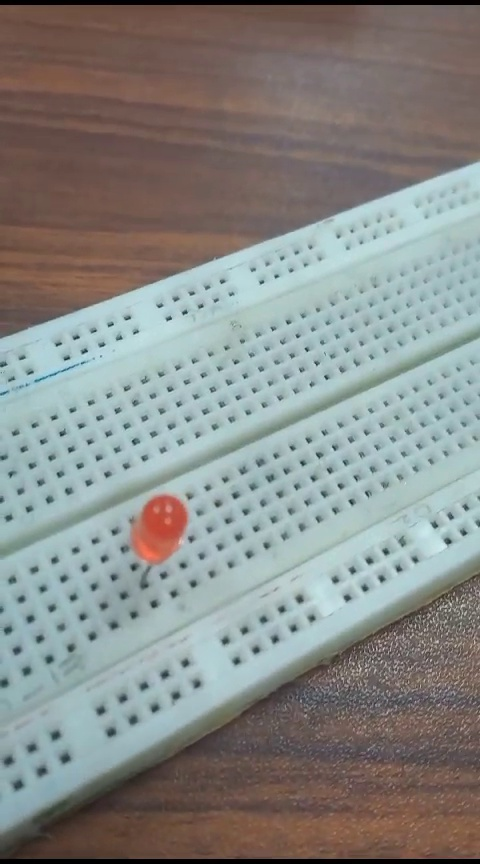LED: (124, 495, 195, 584)
